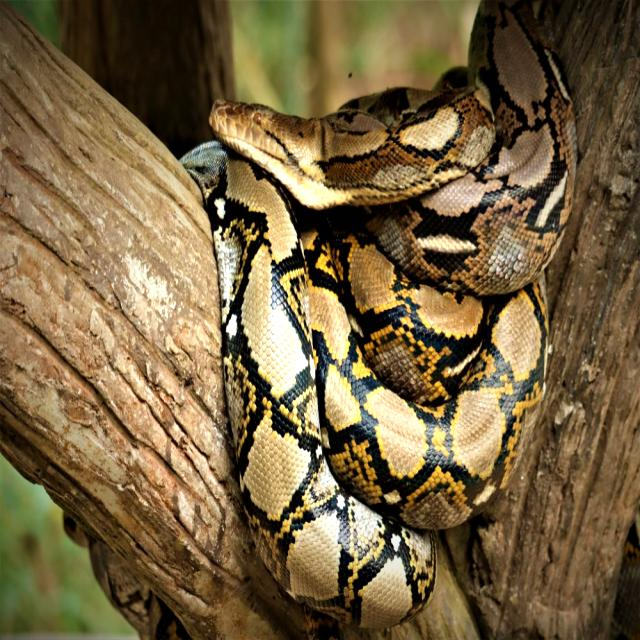Malayopython reticulatus: (183, 1, 575, 627)
